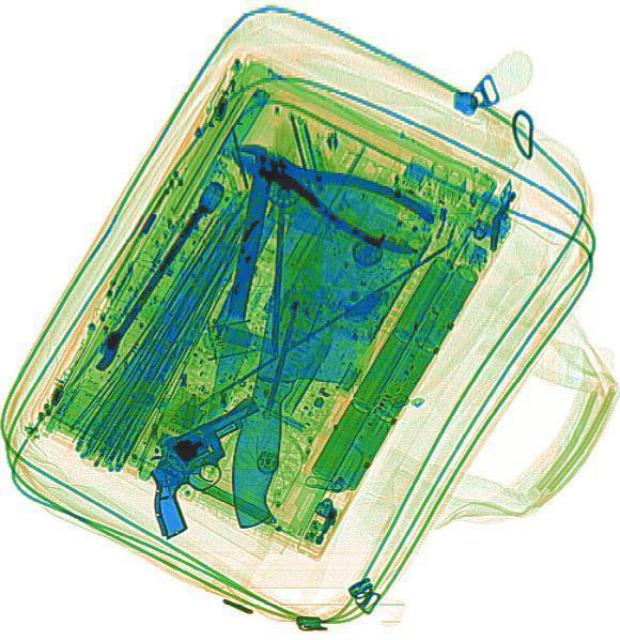Gun: (118, 392, 297, 542)
Knife: (218, 173, 404, 542), (193, 152, 282, 474)
Pliers: (215, 120, 437, 262)
